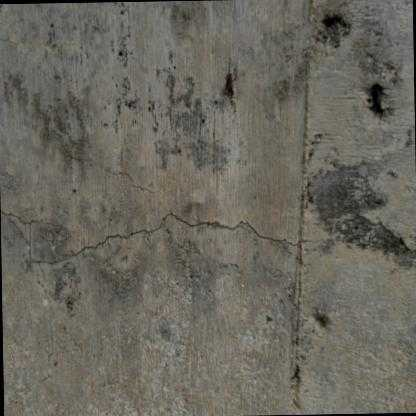crack: (0, 202, 309, 269)
